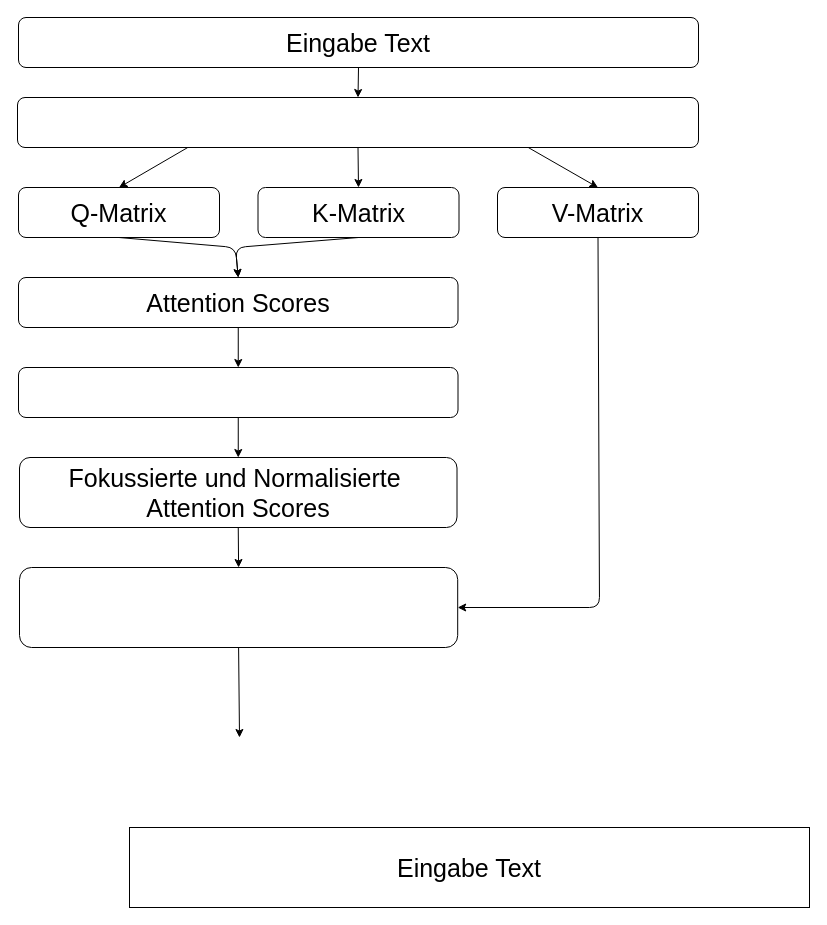
This 827x925 diagram has some shape labels left out. The shapes that lost their labels are listed below. From the top down, each one's centre as x and y in pixels, then its label:
the point at 357,122: Embeddings
the point at 238,392: Dimensionierte Attention Scores
the point at 238,607: Informationen über Token mit den Attention Scores gewichtet
